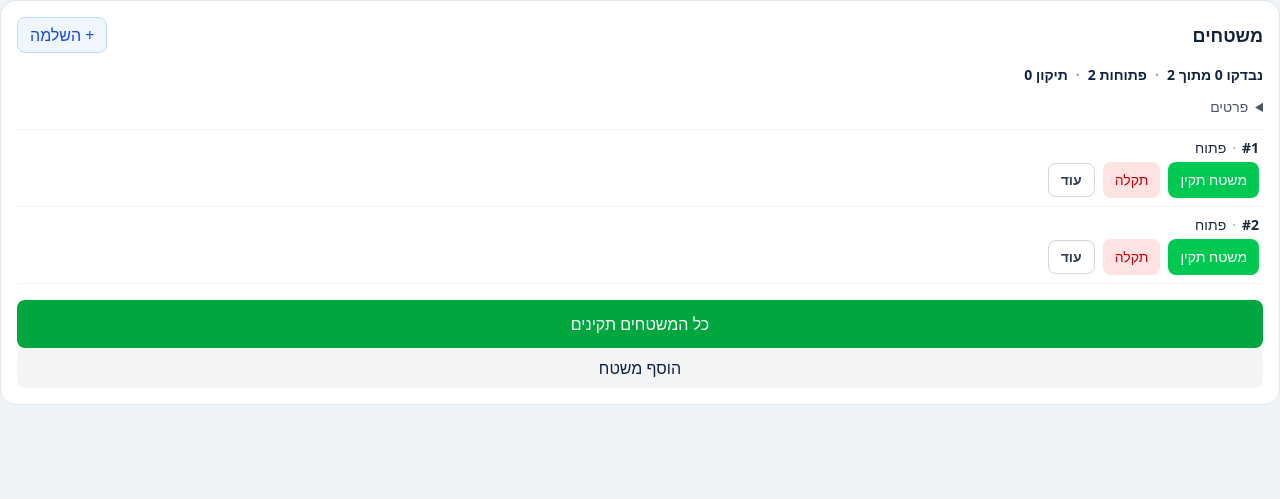
ManualOrderCheckUnitsPanel › adding a third unit via POST appears in list without duplicates after server refetch
expect the text "#2" is shown: met, box [1242,215,1259,235]
Click the button with test id "create-check-unit" at (640,368), box [17,348,1263,388]
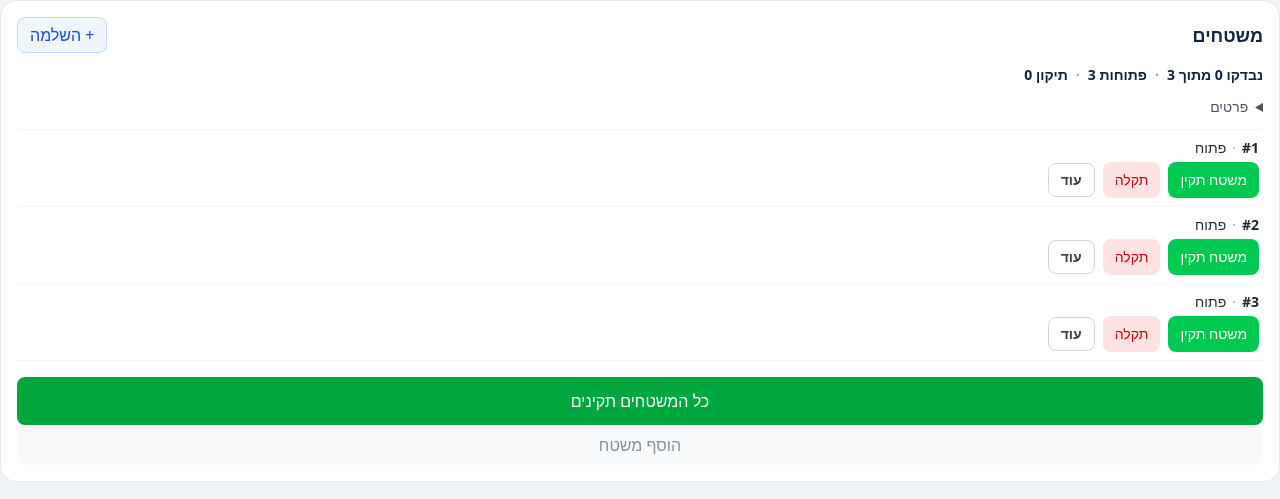
expect the text "#1" is shown once: met, box [1242,138,1259,158]
expect the text "#3" is shown once: met, box [1242,292,1259,312]
expect the element with test id "check-units-summary" shows "פתוחות 3": met, box [1024,65,1263,84]
